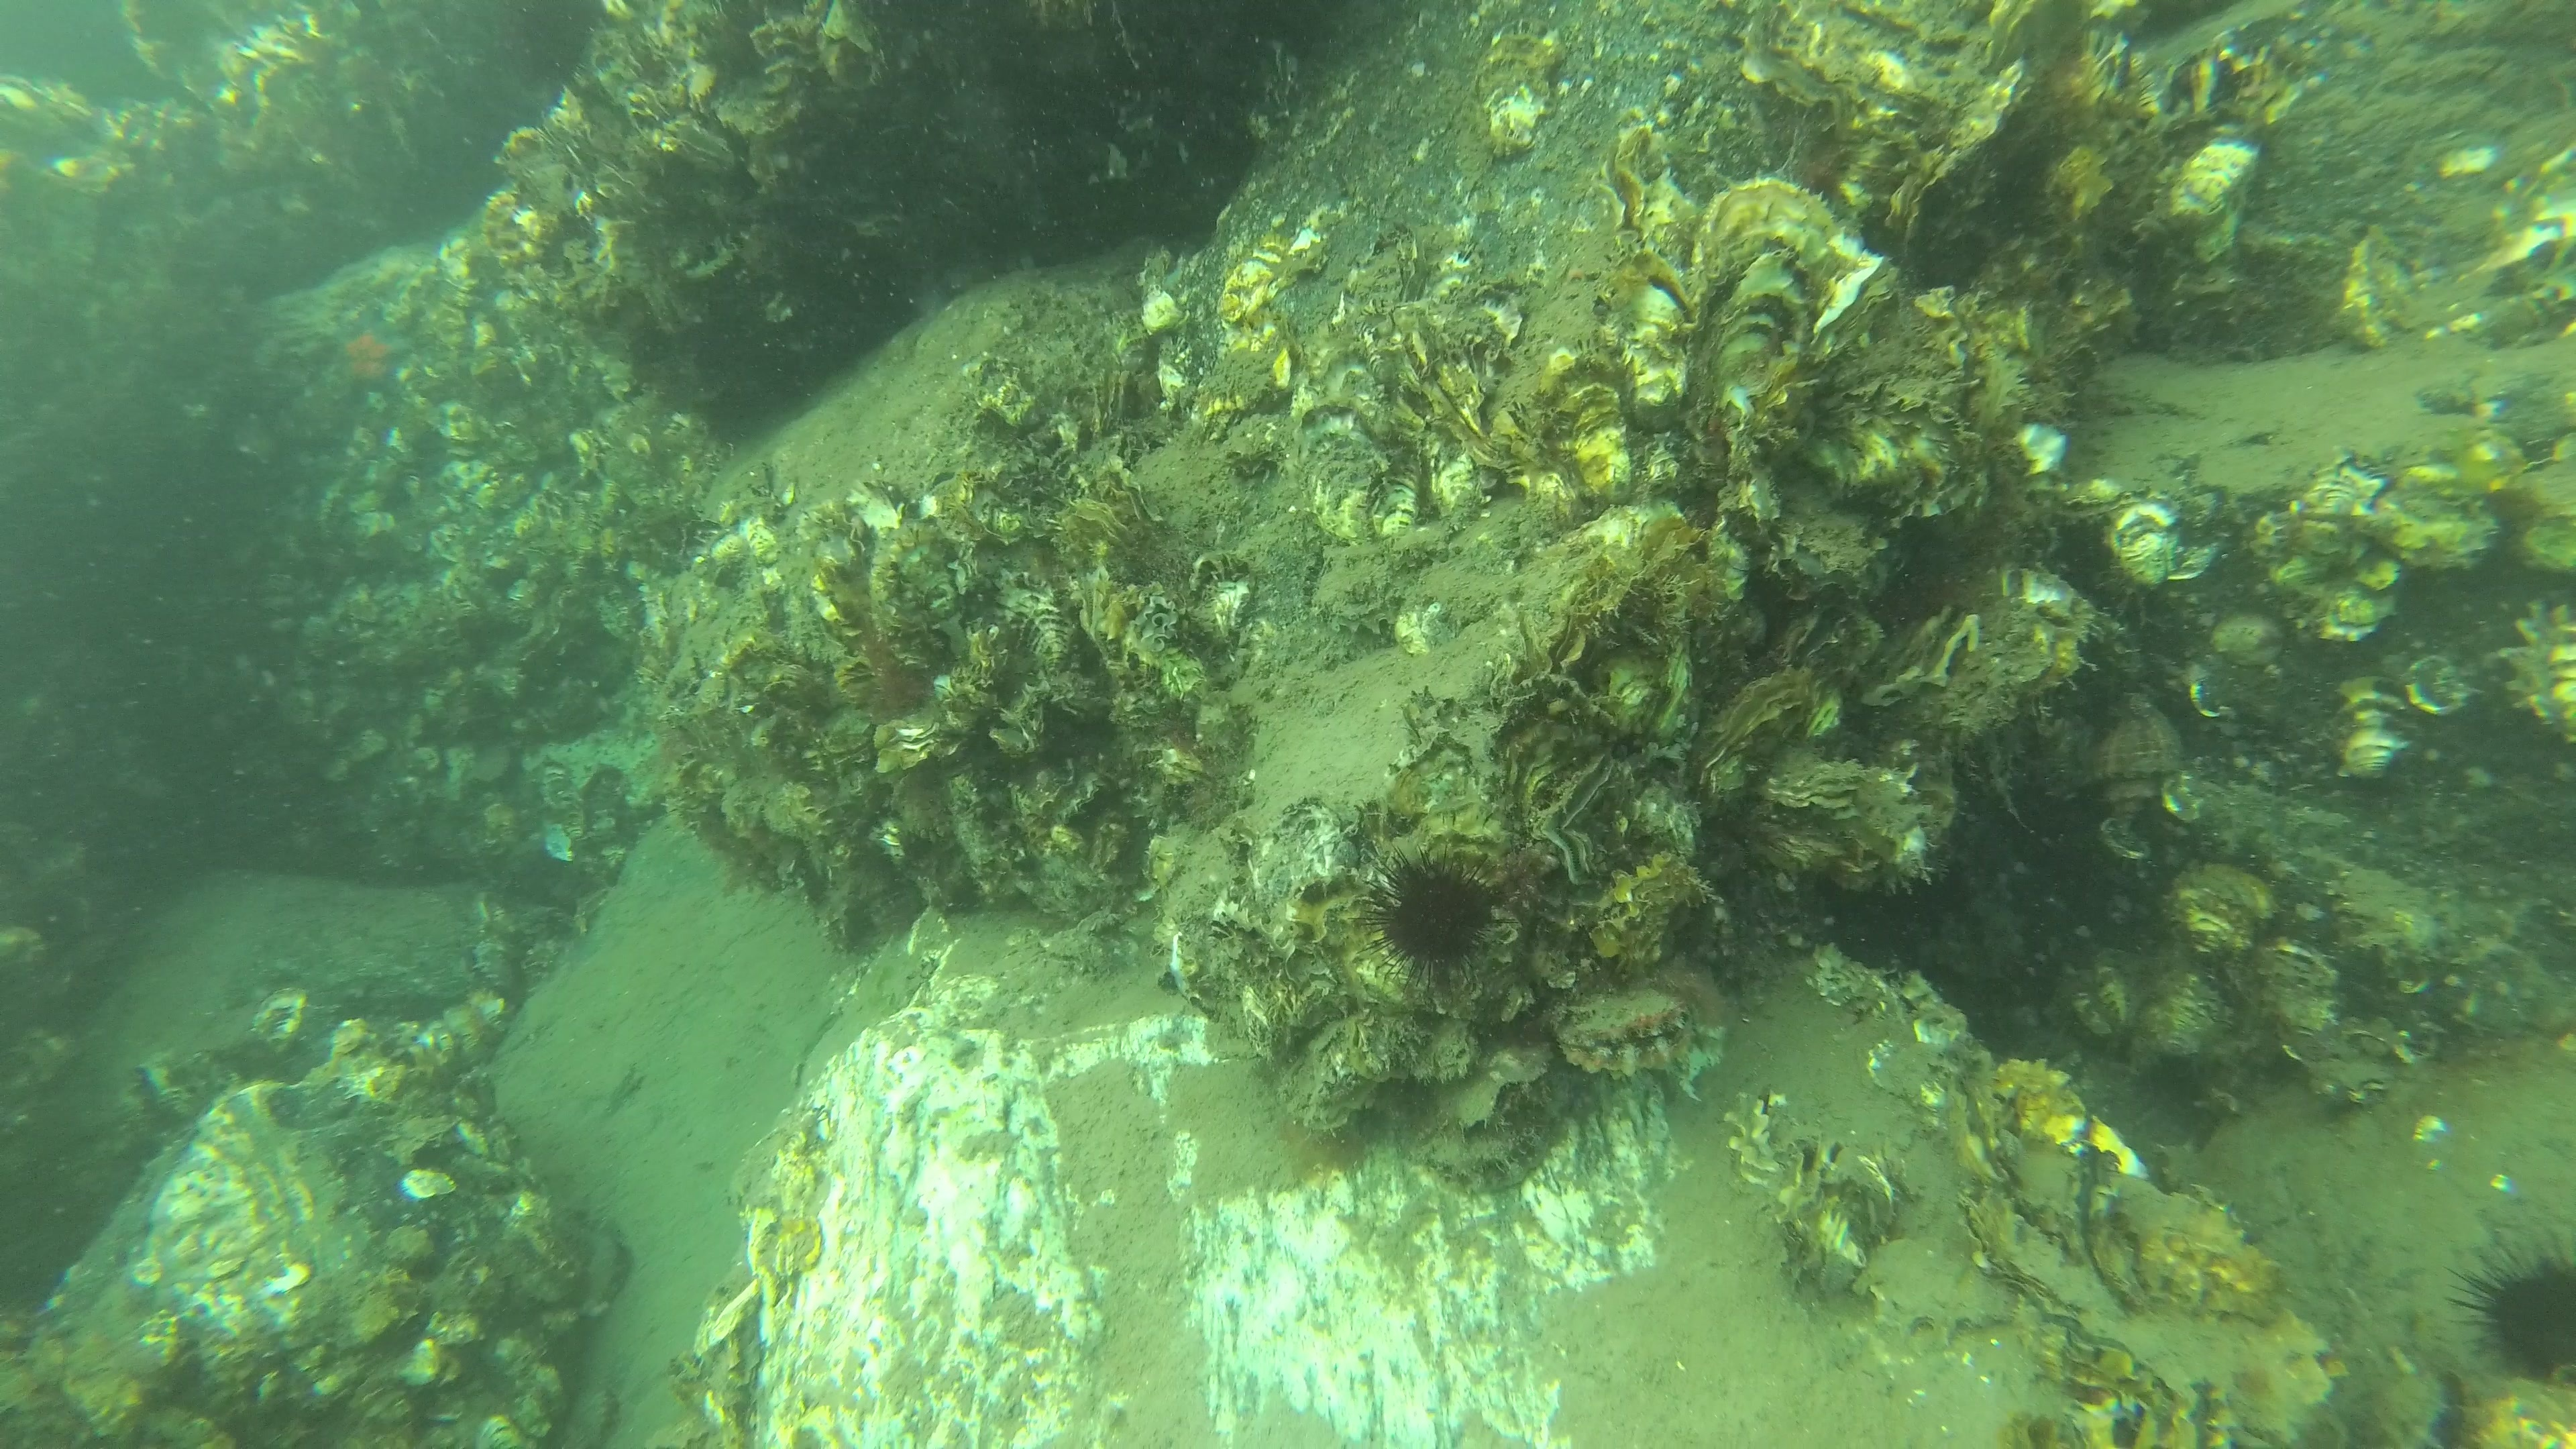echinus: (1355, 840, 1522, 985), (2454, 1230, 2576, 1394)
starfish: (320, 311, 421, 410)
